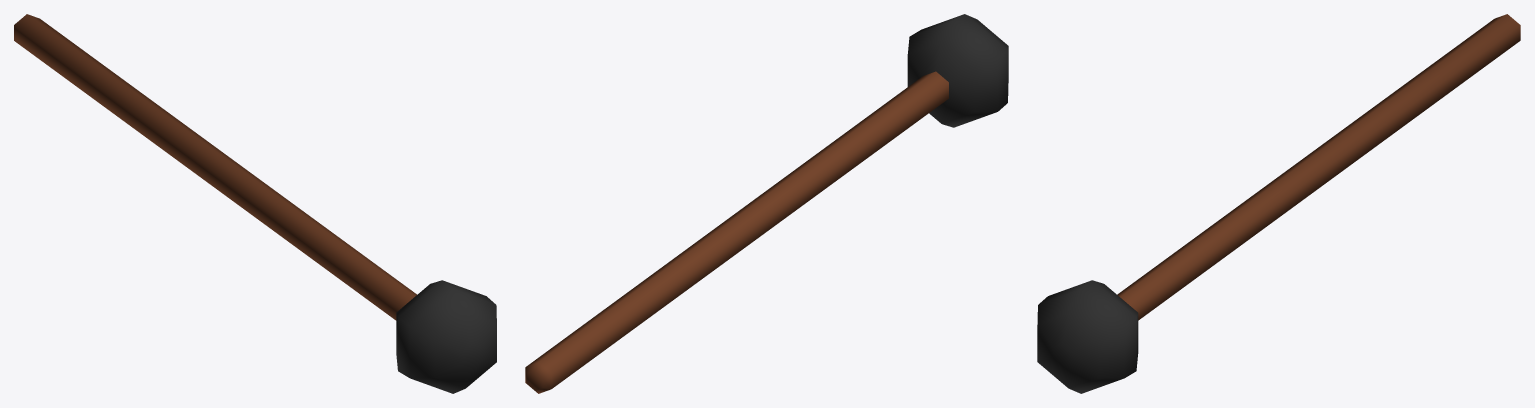
File: MarimbaStick_01.fbx
3 views of the same model, side by side, from view 1: azimuth 30°, elevation 25°; view 2: azimuth 150°, elevation 25°; view 3: azimuth 330°, elevation 25° (orthographic).
Visible parts, largest first — view 1: MarimbaStick_01; view 2: MarimbaStick_01; view 3: MarimbaStick_01.
Boxes of the visible parts, x1,y1,x2,y2 form: MarimbaStick_01: [14, 14, 496, 393]; MarimbaStick_01: [525, 14, 1008, 393]; MarimbaStick_01: [1037, 14, 1520, 393].
Size of the model in its own units: 0.0522 by 0.0603 by 0.4583.
